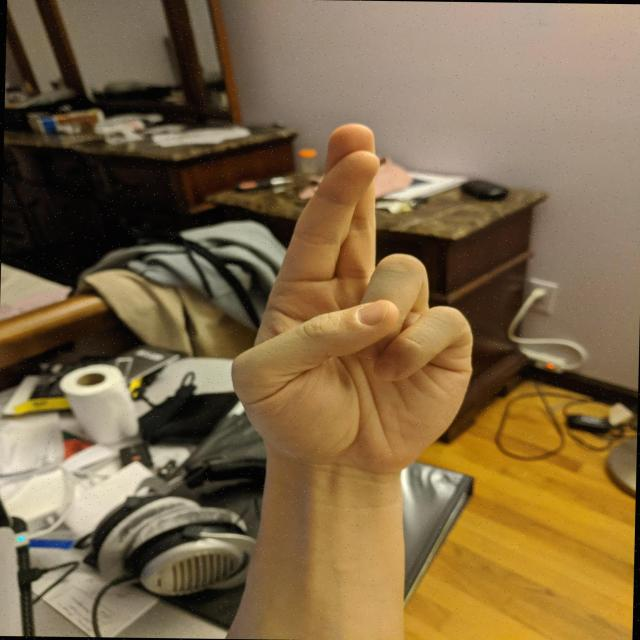R: (219, 115, 489, 478)
